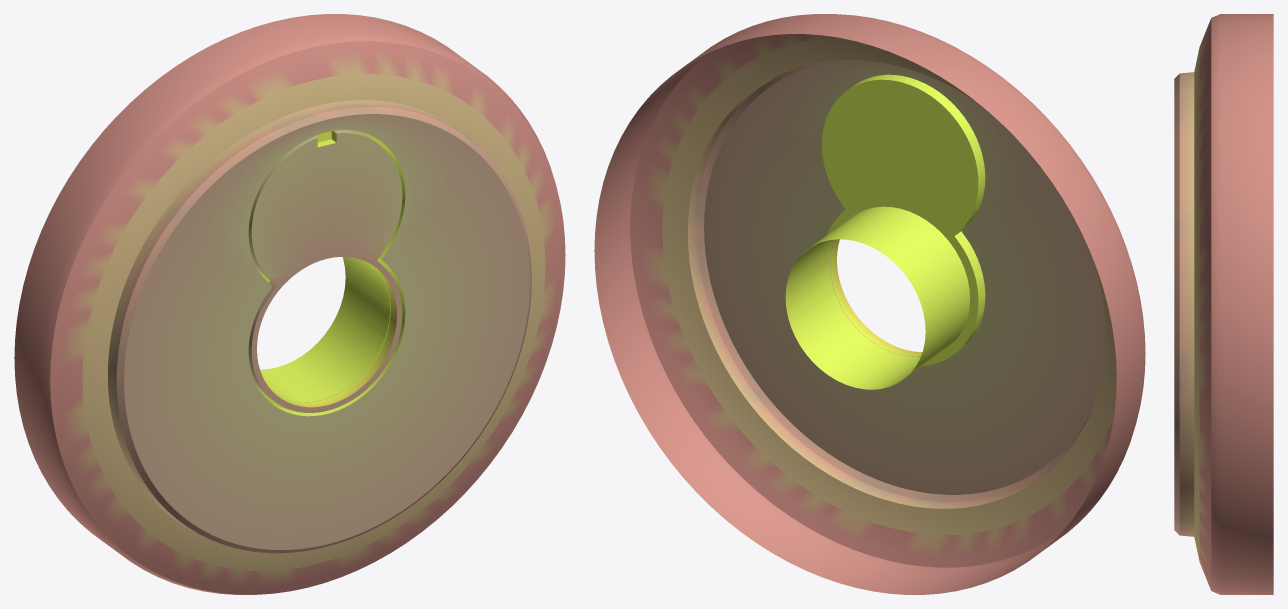
Rendered from Kit_Lock_CylinderShell_Brass.fbx.
The picture shows the model from 3 angles, left to right: view 1: azimuth 30°, elevation 25°; view 2: azimuth 150°, elevation 25°; view 3: azimuth 270°, elevation 25°; orthographic projection. The views are drawn at different scales.
Parts seen in each view (by area): view 1: Kit_Lock_CylinderShell_LOD0; view 2: Kit_Lock_CylinderShell_LOD0; view 3: Kit_Lock_CylinderShell_LOD0.
Boxes of the visible parts, bbox=[...] form: Kit_Lock_CylinderShell_LOD0: bbox=[14, 14, 565, 594]; Kit_Lock_CylinderShell_LOD0: bbox=[594, 14, 1145, 594]; Kit_Lock_CylinderShell_LOD0: bbox=[1174, 14, 1273, 594].
Size of what is drawn, in the model's own units: 0.044 by 0.044 by 0.0075.
